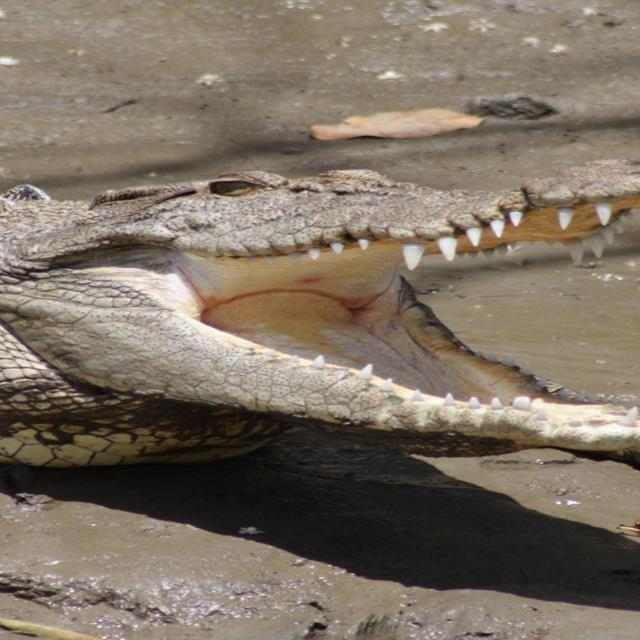crocodile: (0, 169, 640, 459)
